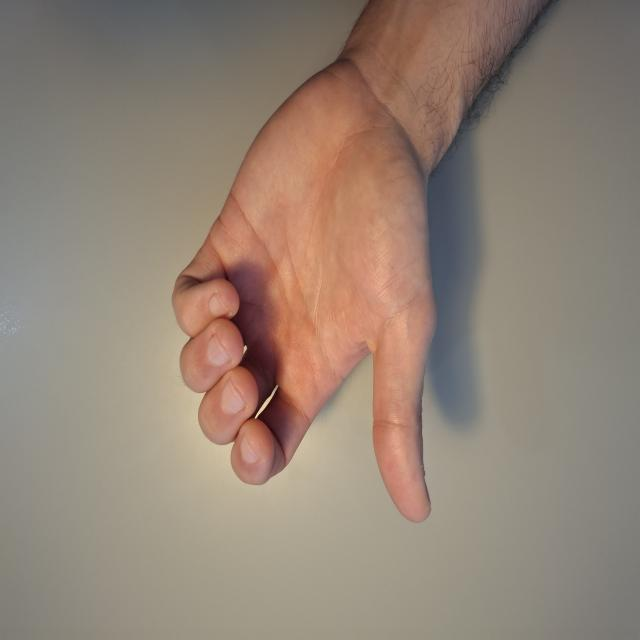glove_off: (168, 45, 440, 530)
